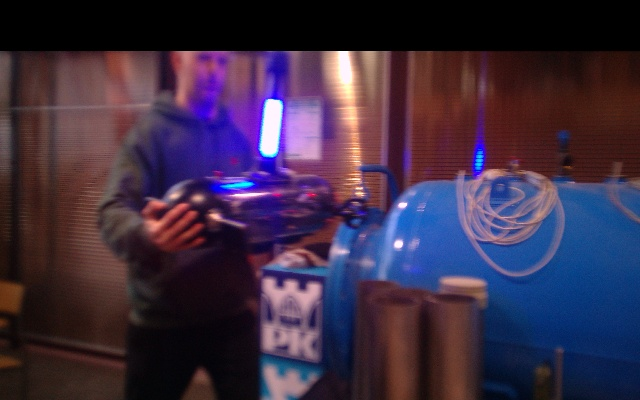blue: (260, 98, 283, 159)
